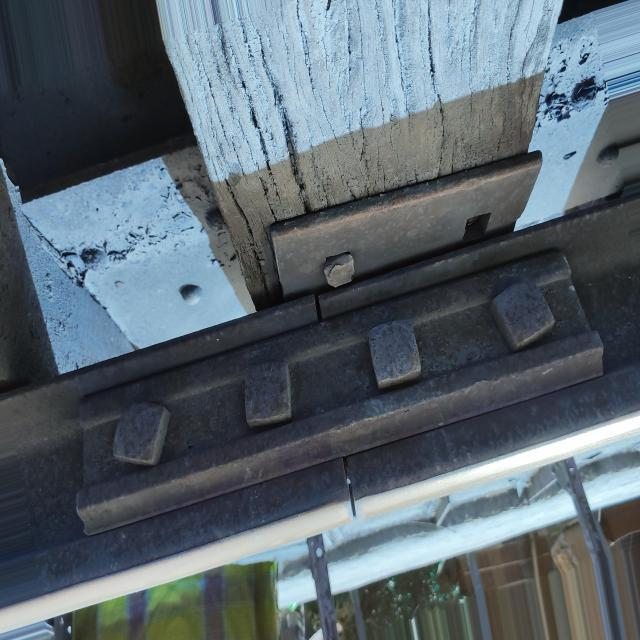Good Joint: (69, 222, 632, 553)
Missing Dogscrew: (462, 213, 491, 241)
